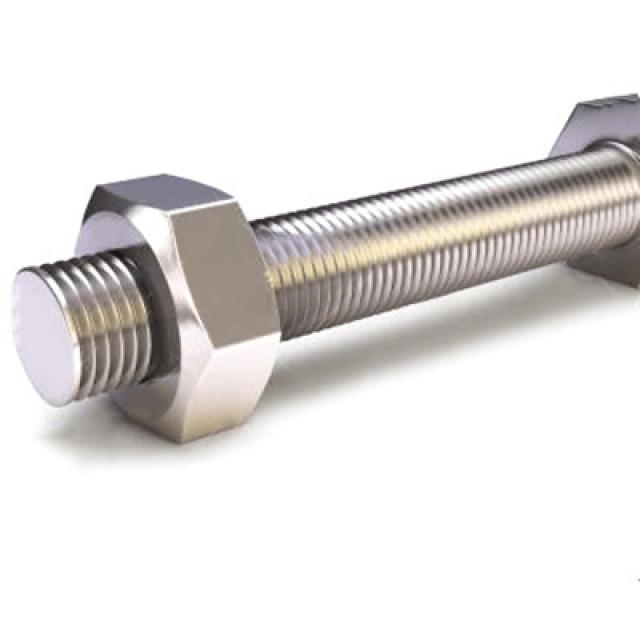Logam: (56, 21, 640, 486)
